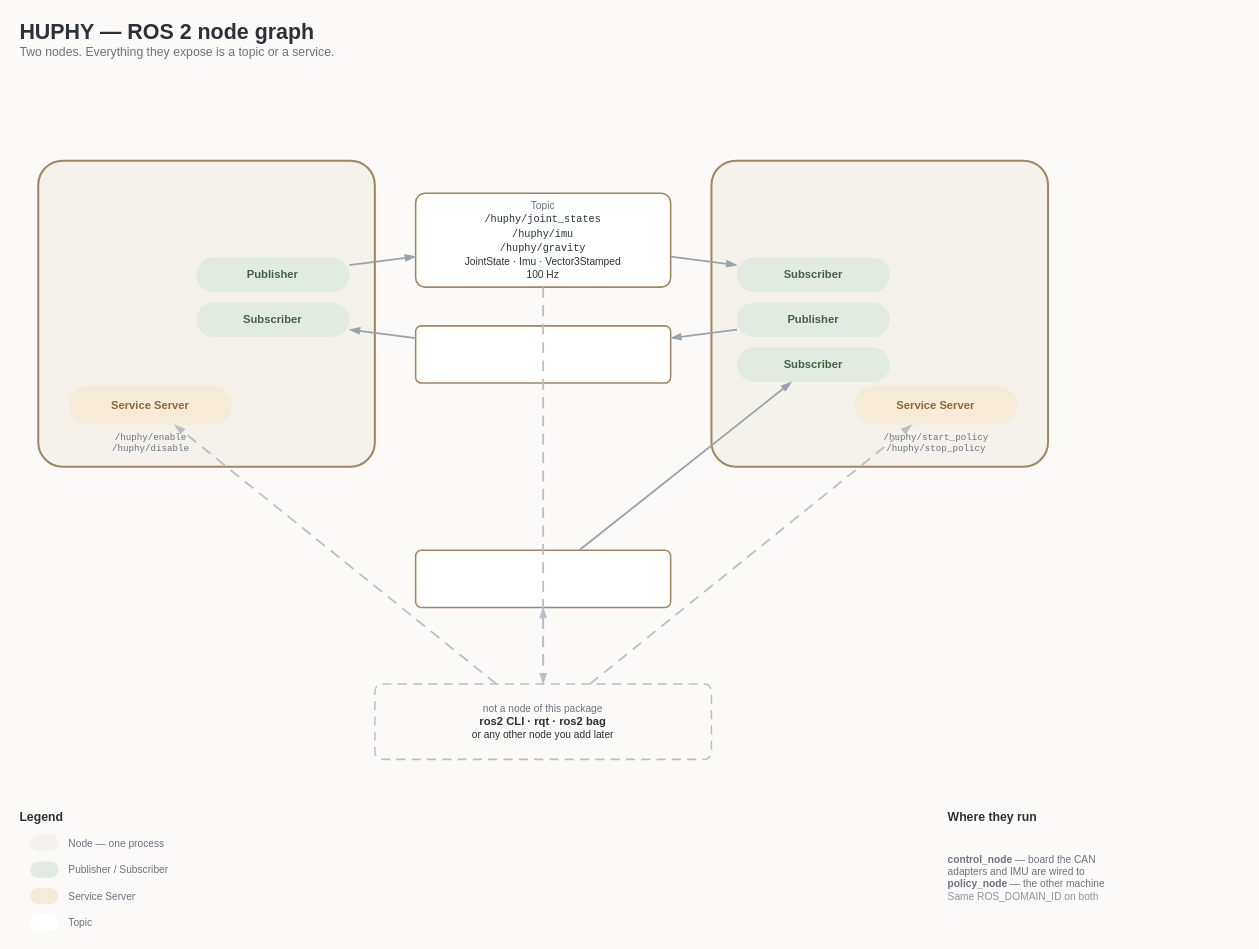
Image size: 1259x949. Some labels were removed from this diagram. The box of each missing label's shape, as (x1, y1, x2, y2) in pixels:
control_node Drives the motors 100 Hz loop · CAN · safety guards: (37, 159, 375, 467)
policy_node Decides the next pose 50 Hz inference · .pt: (710, 159, 1049, 467)
Topic /huphy/cmd_vel Twist · 20 Hz: (414, 549, 671, 608)
Topic /huphy/joint_targets JointState · 50 Hz: (414, 325, 671, 383)
